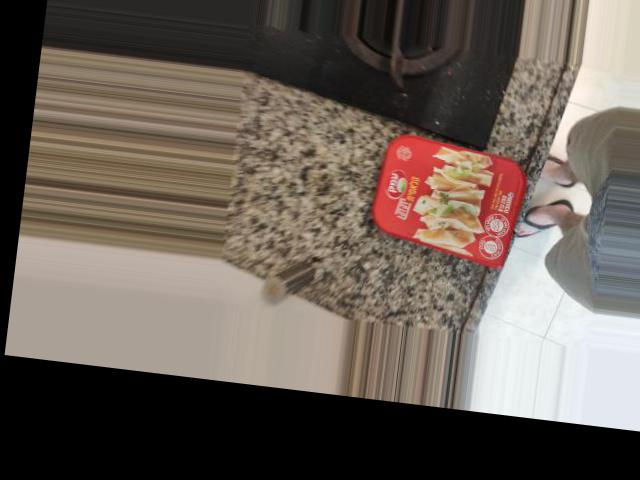cheese: (296, 96, 467, 240)
